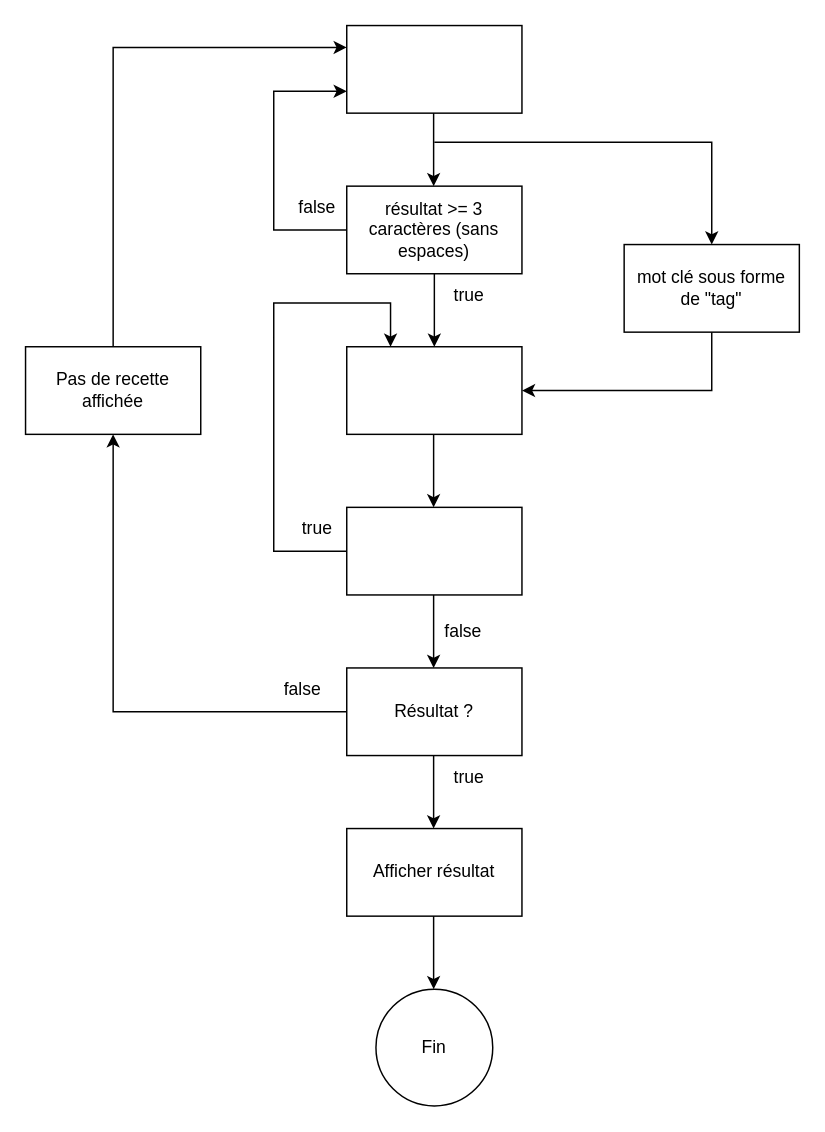
Some shapes in this 825 by 1132 pixel diagram are drawn without their labels. Each missing label, with the centre of its shape:
"Ajout/ suppression caractère dans l'input" belongs at [433,550].
"lecture input barre de recherche" belongs at [433,68].
"Recherche" belongs at [433,389].
